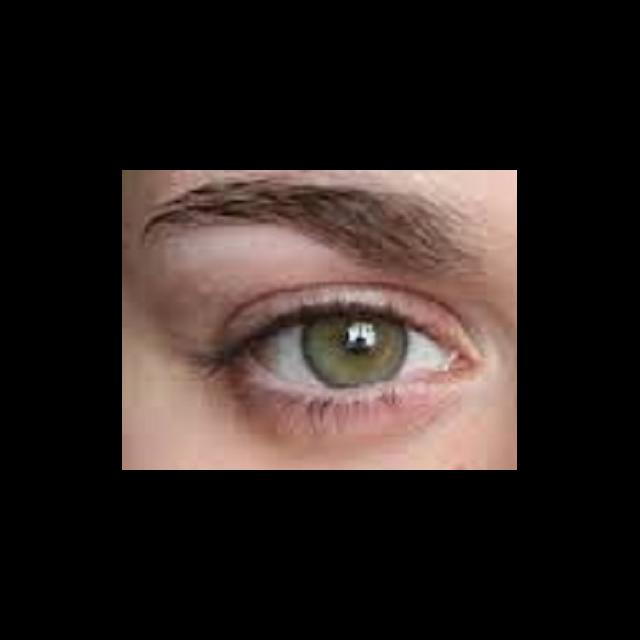eye: (250, 310, 450, 391)
iris: (302, 314, 410, 387)
